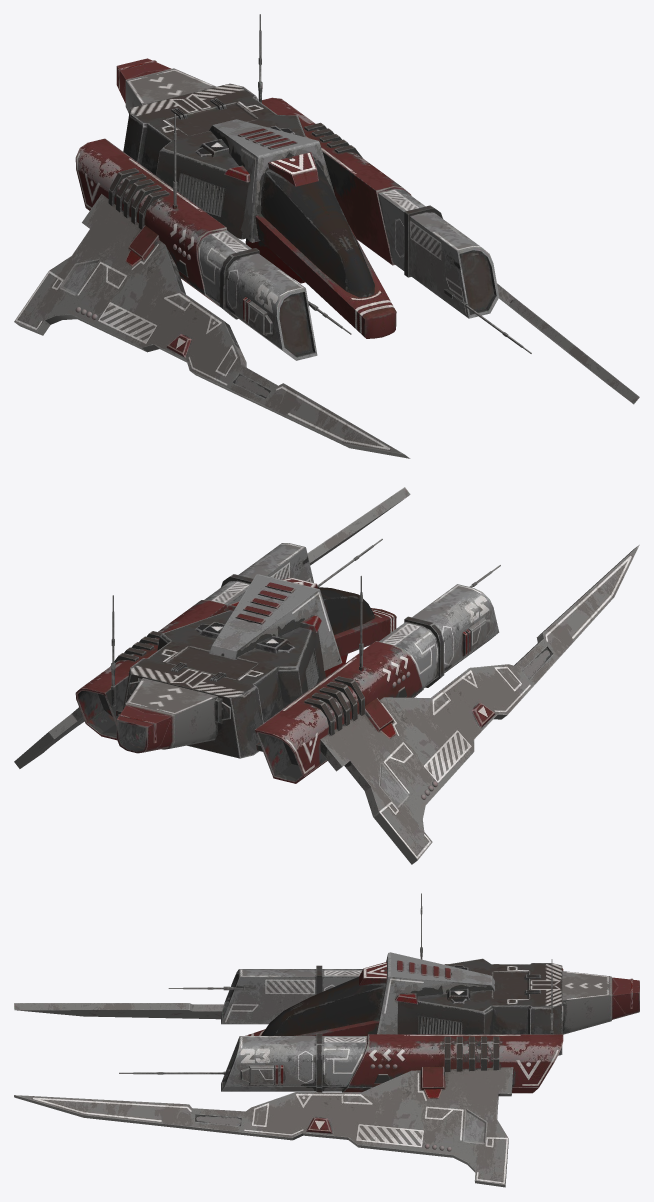
The model's file is striker_red.glb.
3 renders of one model, top to bottom at view 1: azimuth 30°, elevation 25°; view 2: azimuth 150°, elevation 25°; view 3: azimuth 270°, elevation 25°, orthographic. The views are drawn at different scales.
Parts seen in each view (by area): view 1: striker; view 2: striker; view 3: striker.
Boxes of the visible parts, x1,y1,x2,y2 form: striker: [14, 14, 639, 458]; striker: [14, 487, 639, 864]; striker: [14, 893, 639, 1187].
Size of the model in its own units: 5.03 by 2.68 by 8.43.
Materials: 1 (1 with a texture image).
